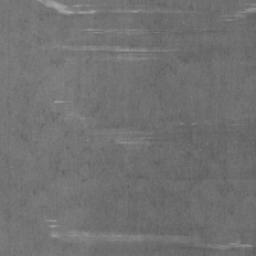Waist folding: (37, 0, 215, 67), (46, 217, 256, 251), (41, 99, 168, 147), (85, 159, 256, 185), (160, 119, 238, 127), (59, 168, 92, 184), (224, 7, 256, 23), (66, 145, 104, 151), (175, 29, 216, 34)
